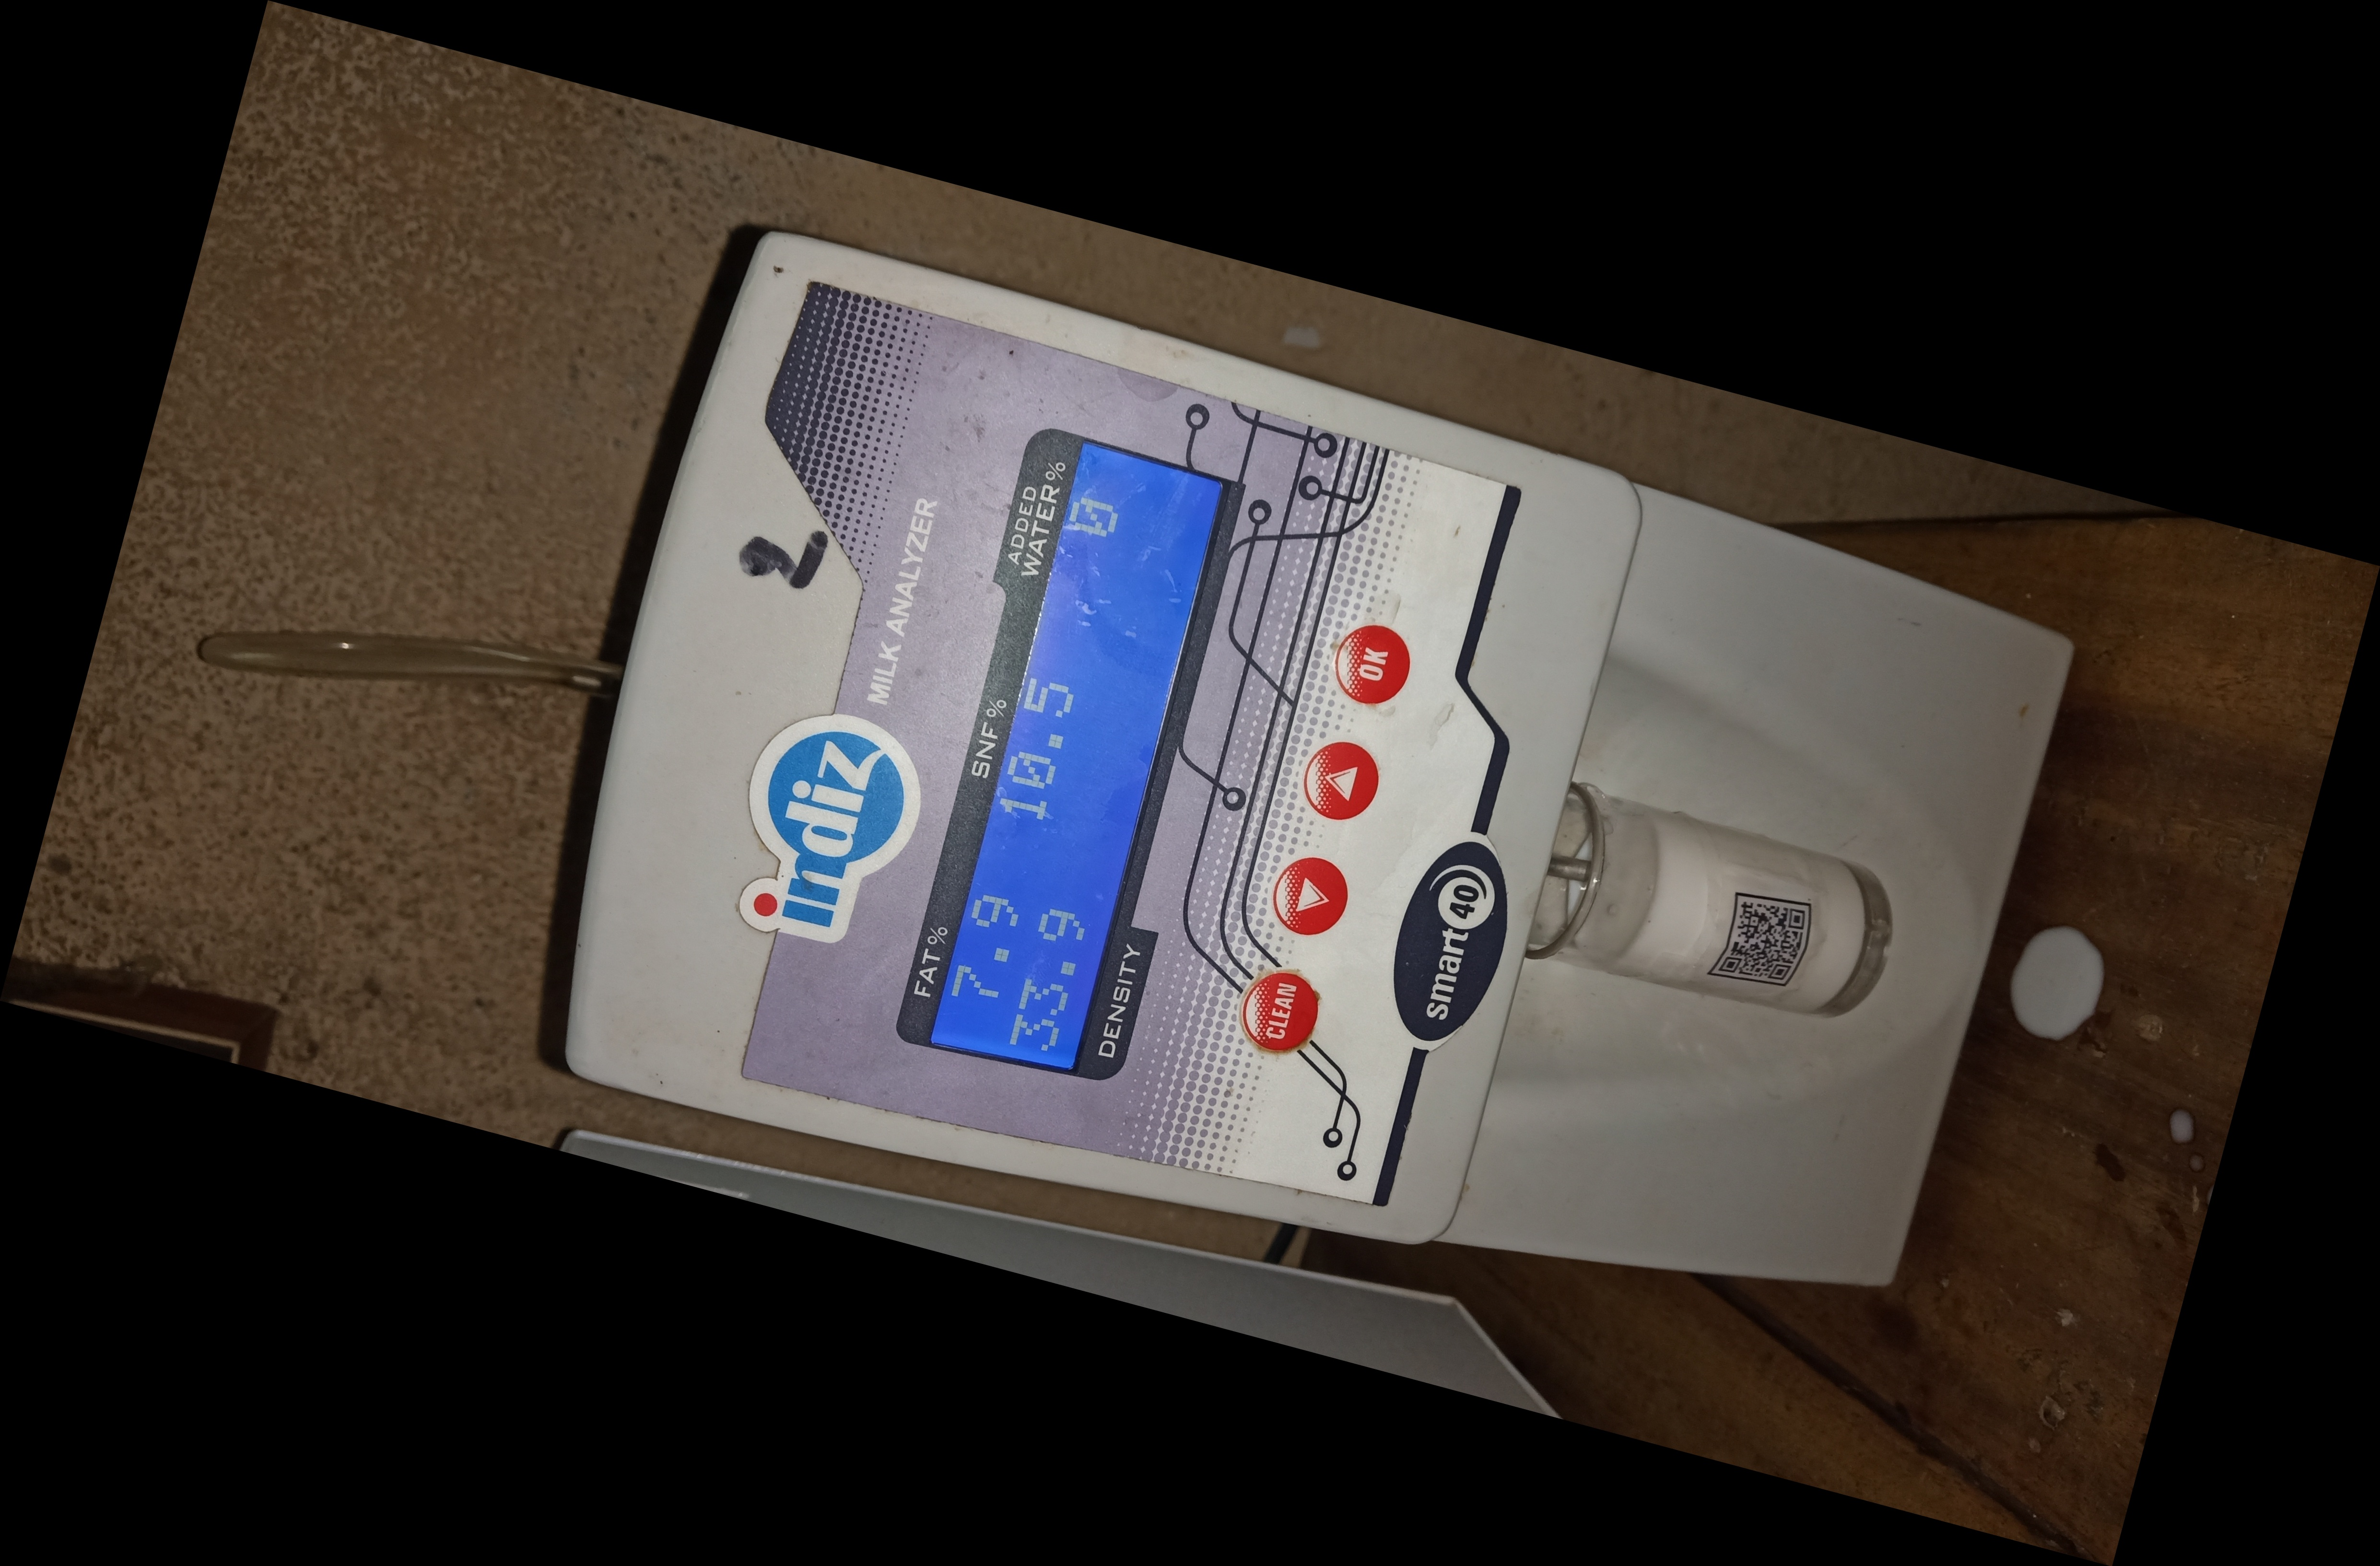lcd: (889, 404, 1249, 1105)
qr: (1700, 886, 1814, 1003)
